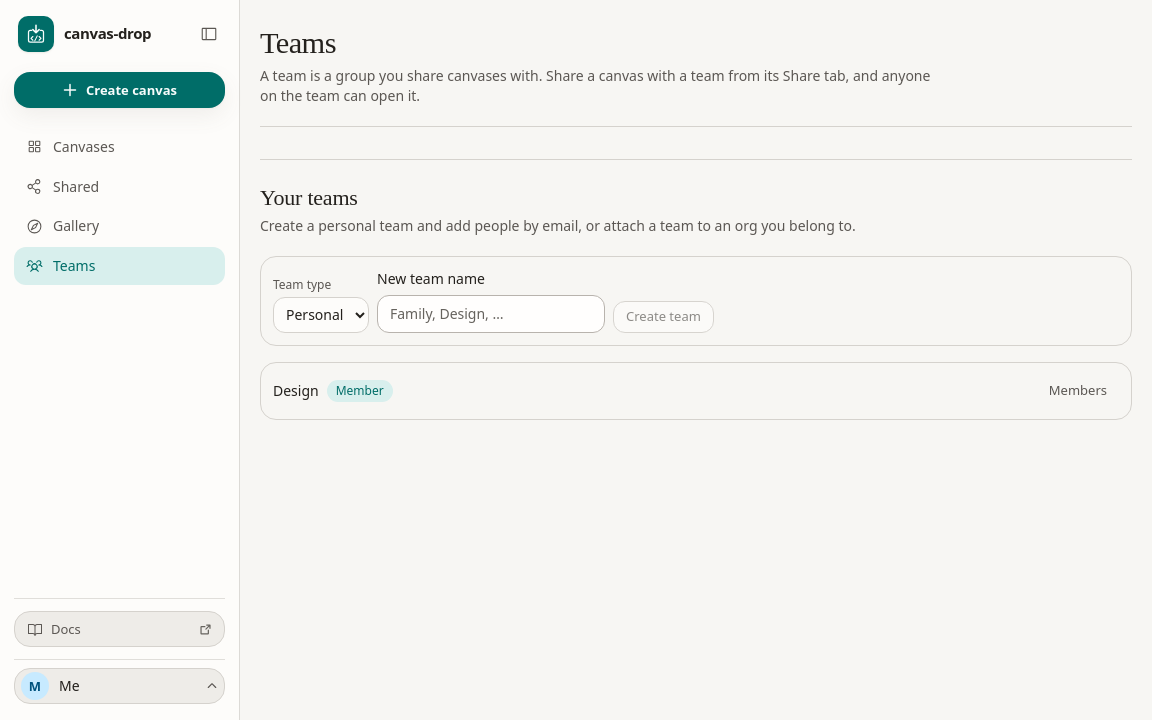
it: teams page › leaving a team asks for confirmation first
Click the button "Members". click: click(1078, 390)
box: [1037, 374, 1119, 406]
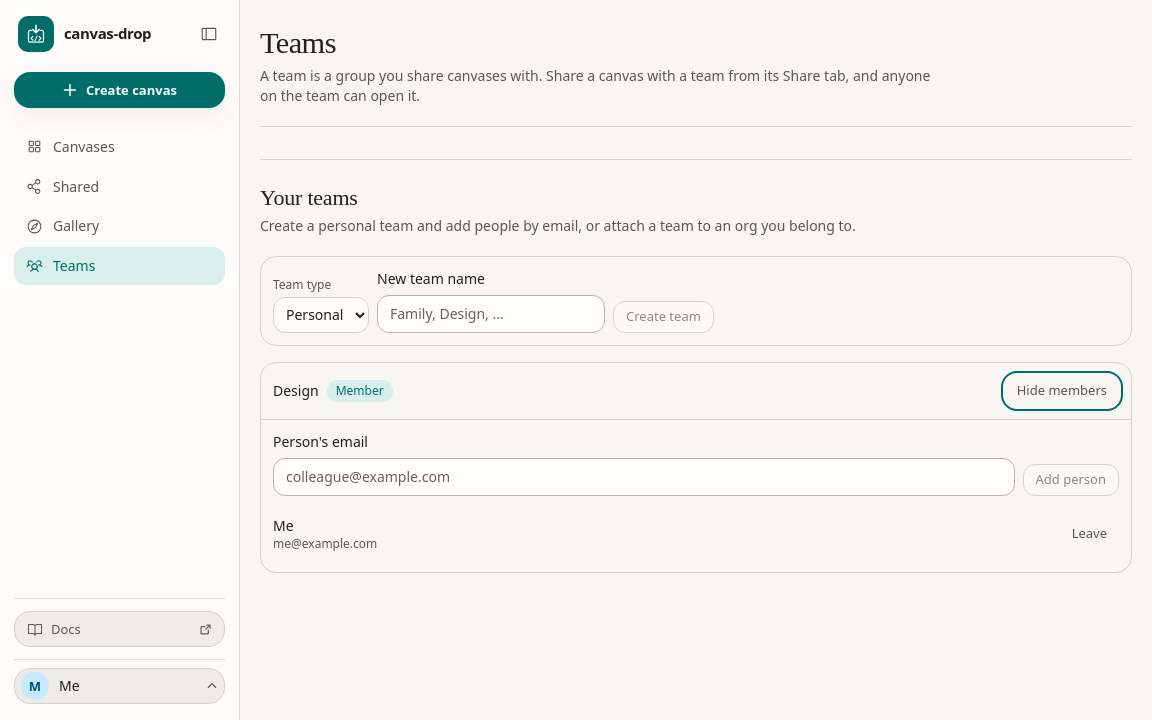
Click the button "Leave". click: click(1089, 534)
box: [1060, 518, 1119, 550]
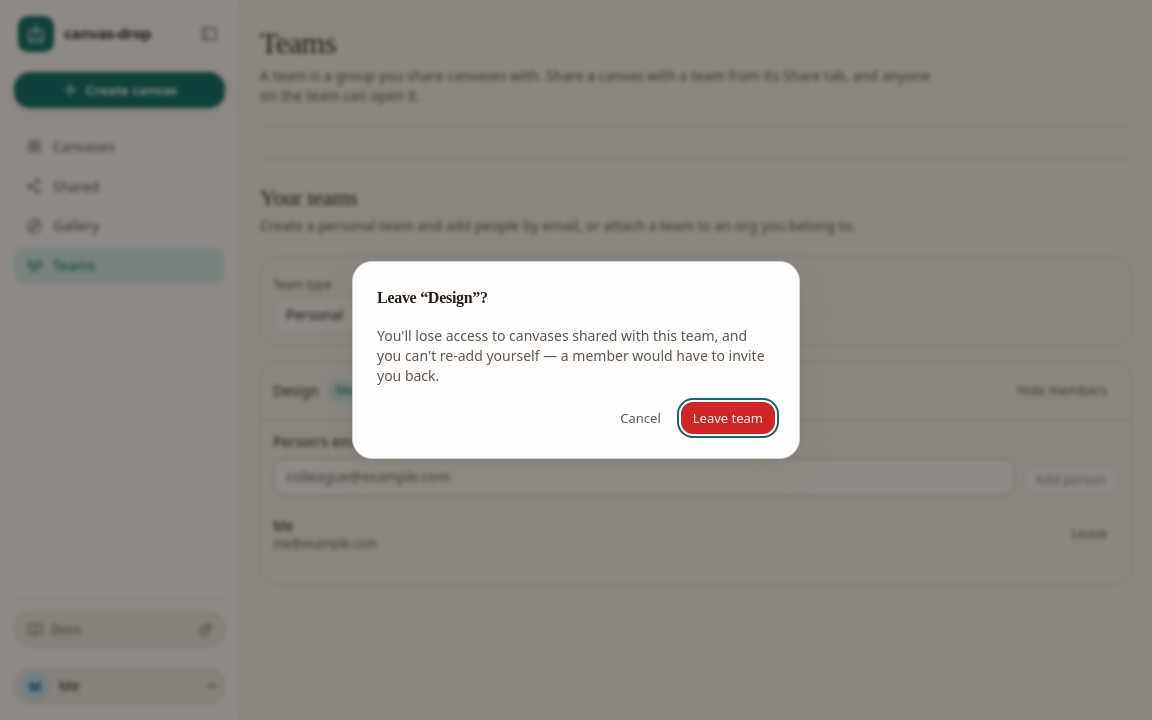
Click the button "Leave team". click: click(728, 418)
box: [681, 402, 775, 434]
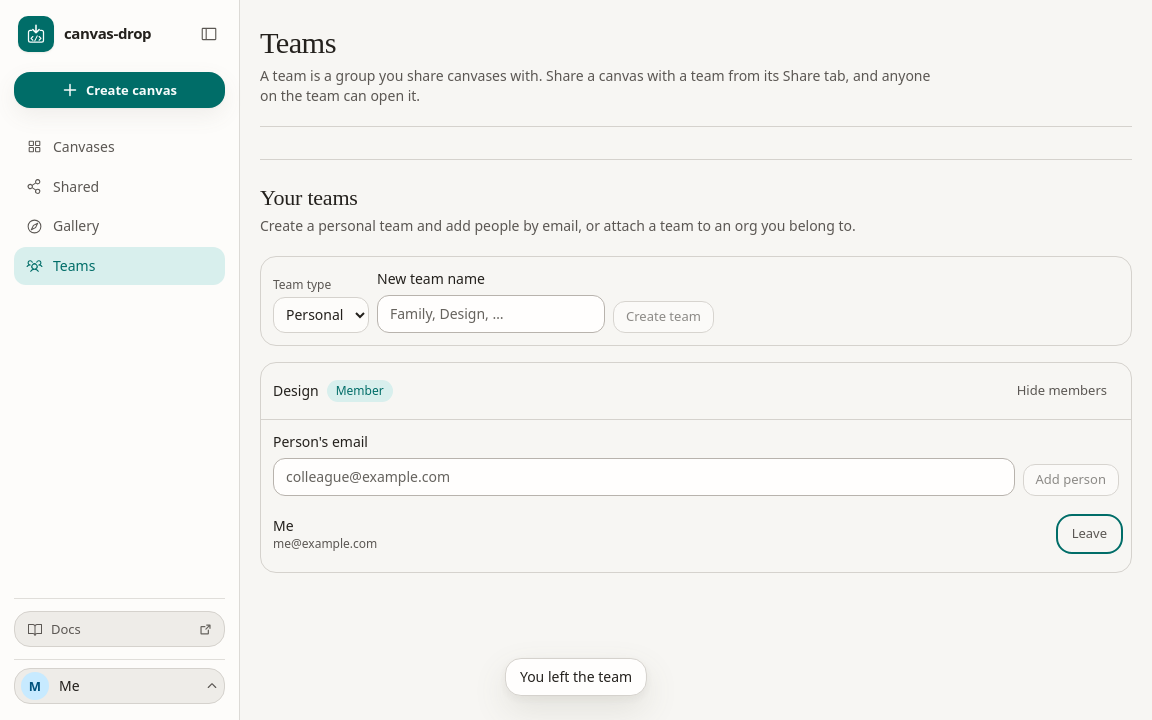
Now the text "You left the team" is shown, box [505, 658, 647, 696]
